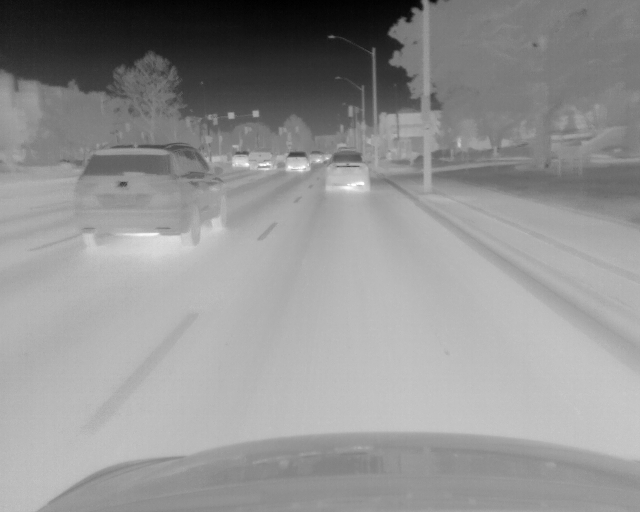car: (74, 144, 231, 248), (326, 151, 369, 196), (284, 151, 311, 175), (250, 151, 275, 172), (231, 149, 249, 168), (311, 151, 323, 164)
